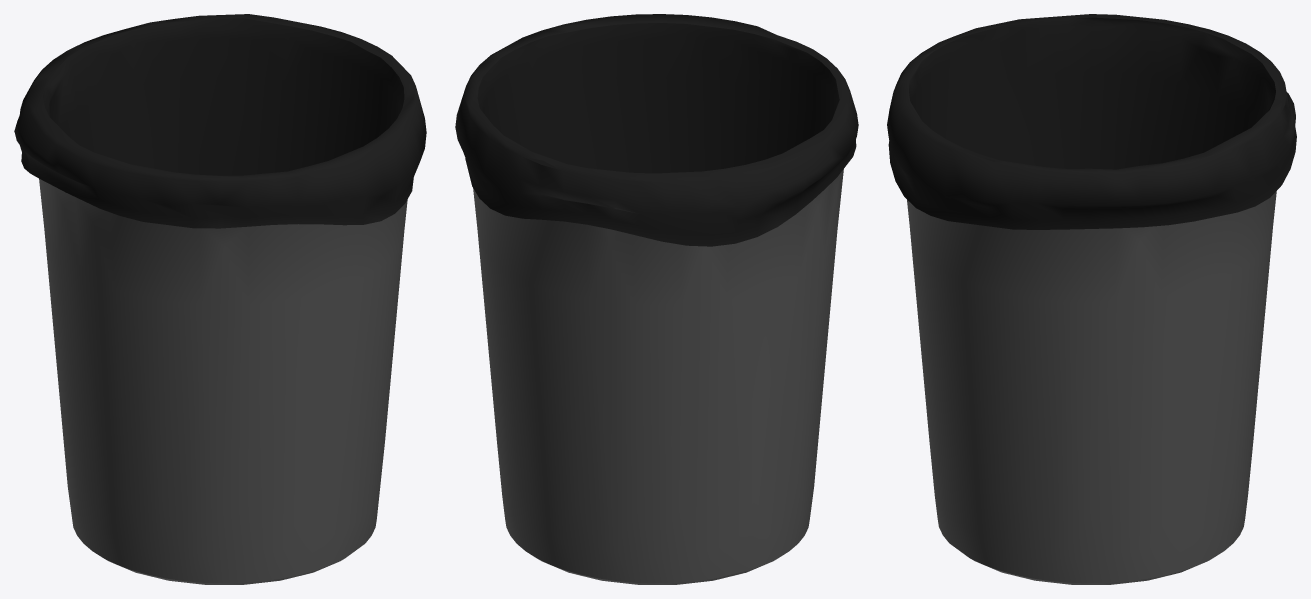
Rendered from Trashcan.fbx.
3 views of the same model, side by side, from view 1: azimuth 30°, elevation 25°; view 2: azimuth 150°, elevation 25°; view 3: azimuth 270°, elevation 25° (orthographic).
Parts seen in each view (by area): view 1: Trashcan; view 2: Trashcan; view 3: Trashcan.
Boxes of the visible parts, bbox=[...] form: Trashcan: bbox=[14, 14, 426, 584]; Trashcan: bbox=[455, 14, 858, 584]; Trashcan: bbox=[887, 14, 1296, 584].
Size of the model in its own units: 32.64 by 38.88 by 32.57.
Materials: 1 (1 with a texture image).
